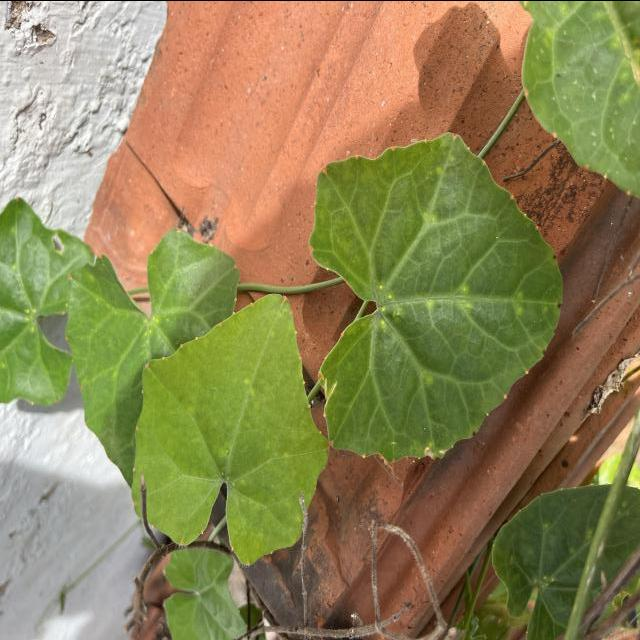Coccinia grandis: (306, 128, 566, 464), (130, 290, 332, 565)
